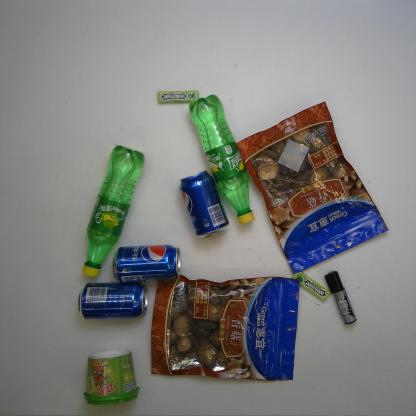Dried Food: (235, 101, 390, 273), (148, 273, 300, 382)
Drink: (80, 146, 146, 279), (189, 94, 256, 224), (180, 169, 227, 240), (77, 282, 149, 320), (111, 245, 183, 280)
Gum: (292, 272, 330, 302), (157, 90, 200, 105)
Instant Drink: (81, 349, 141, 406)
Stationery: (324, 269, 358, 326)
